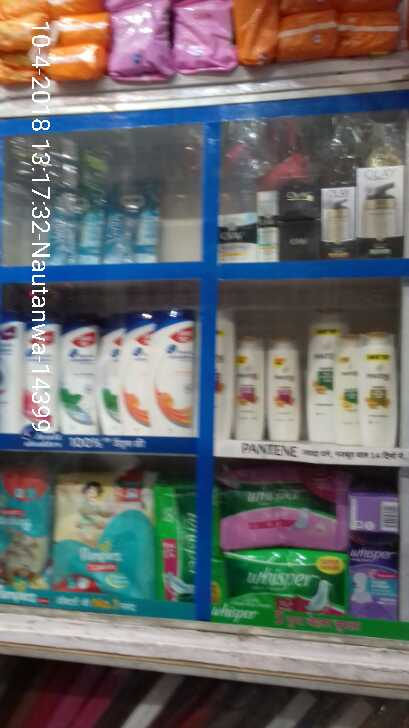venus: (102, 178, 158, 266), (52, 184, 100, 262)
